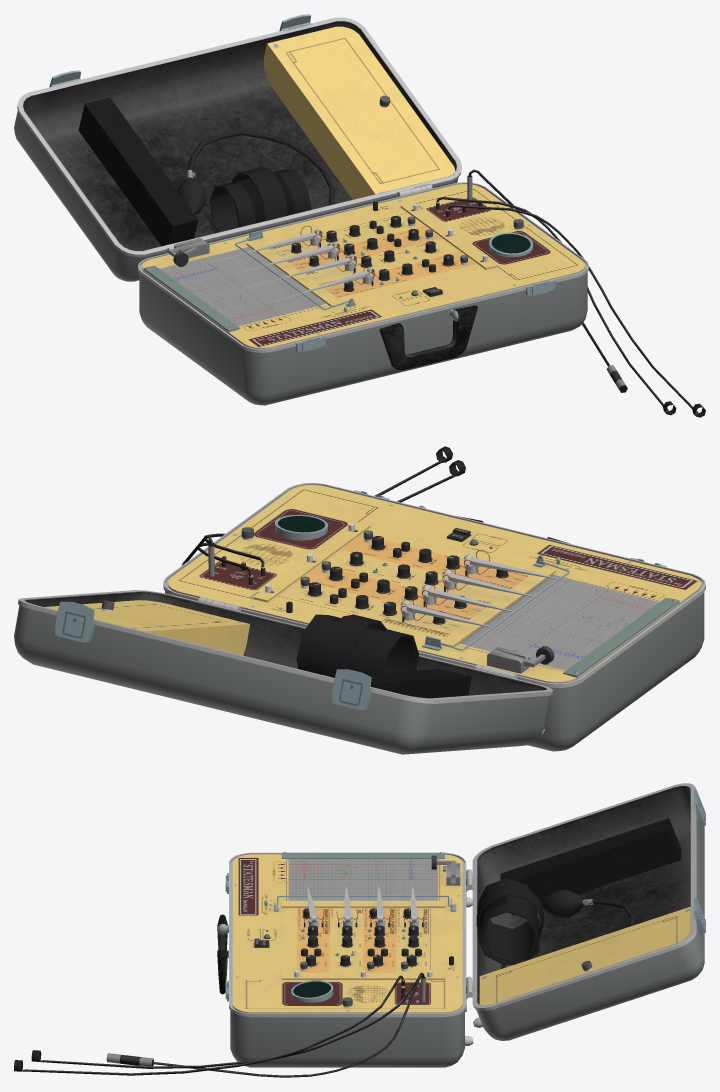
Rendered from PolygraphOpen.fbx.
The picture shows the model from 3 angles, top to bottom: view 1: azimuth 30°, elevation 25°; view 2: azimuth 150°, elevation 25°; view 3: azimuth 270°, elevation 25°; orthographic projection. The views are drawn at different scales.
Parts seen in each view (by area): view 1: PolygraphOpen_LOD0; view 2: PolygraphOpen_LOD0; view 3: PolygraphOpen_LOD0.
Part boxes in pixels (bbox=[...]): PolygraphOpen_LOD0: bbox=[14, 14, 705, 417]; PolygraphOpen_LOD0: bbox=[14, 446, 705, 754]; PolygraphOpen_LOD0: bbox=[14, 783, 705, 1077].
Size of what is drawn, in the model's own units: 57.7 by 23.26 by 97.43.
